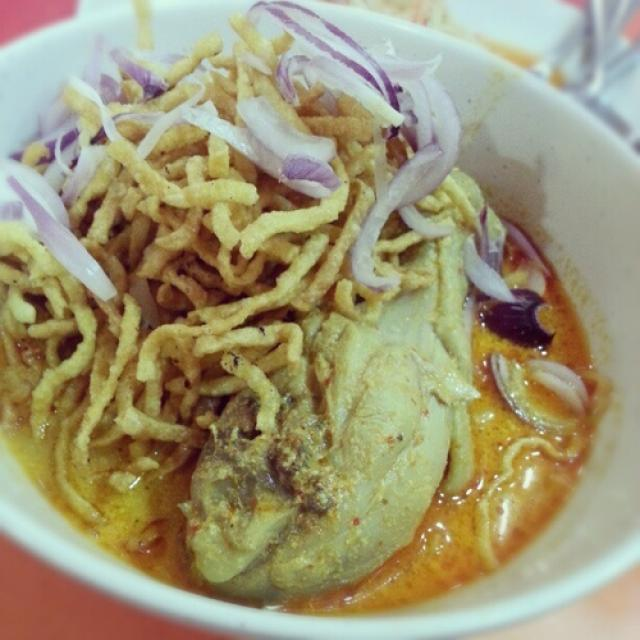面条主食: (9, 21, 617, 596)
